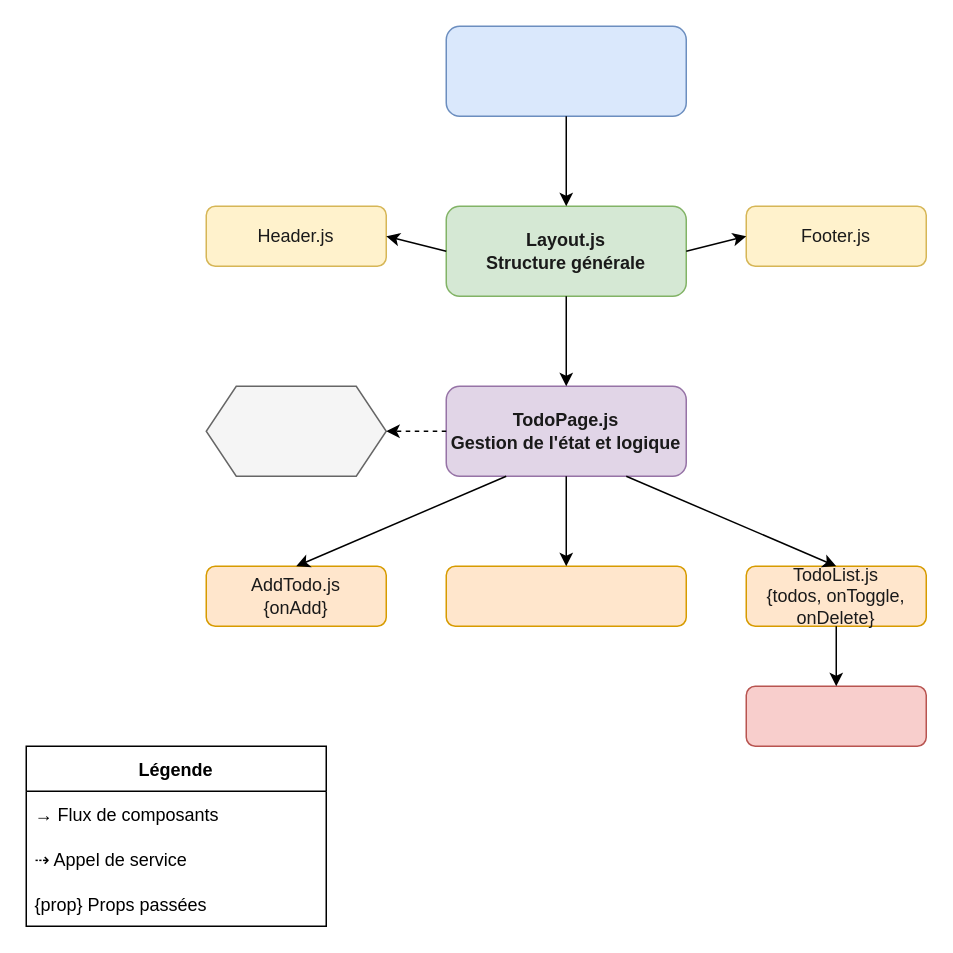
The diagram is 953 pixels wide and 953 high, and some of its shapes have lost their labels. Each missing label, with the centre of its shape:
"App.js Point d'entrée" goes at [565,70].
"TodoFilter.js {currentFilter, onFilterChange}" goes at [565,595].
"TodoItem.js {todo, onToggle, onDelete}" goes at [835,715].
"todoService.js {loadTodos, saveTodos}" goes at [295,430].
